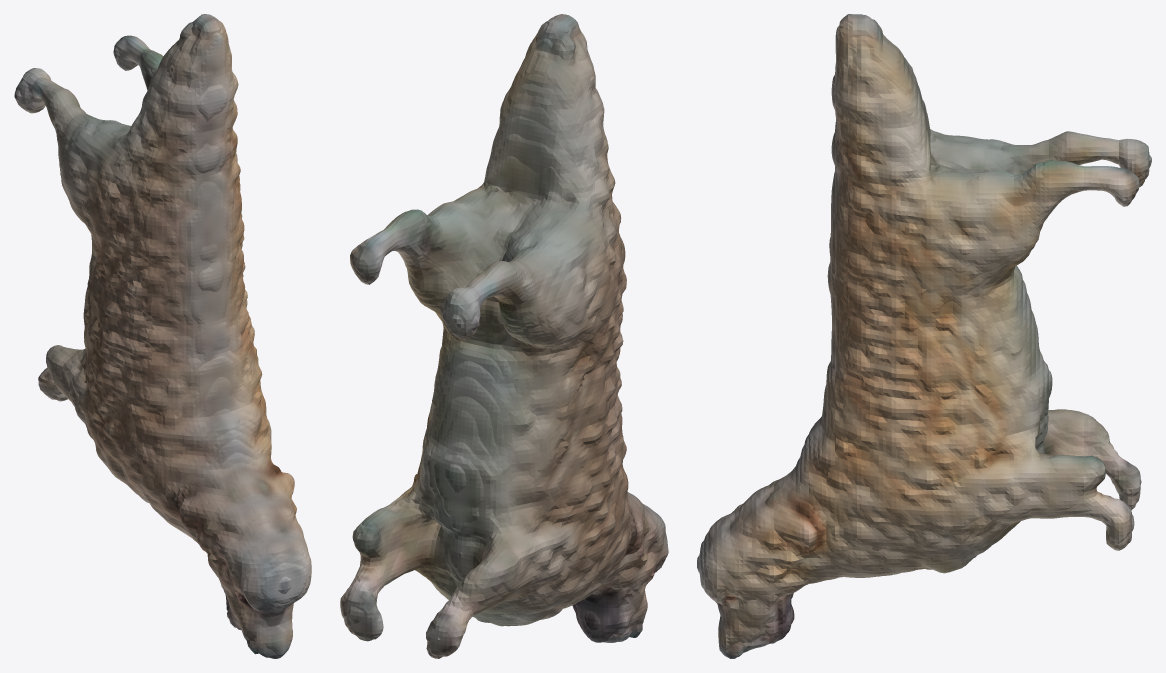
3 views of the same model, side by side, from view 1: azimuth 30°, elevation 25°; view 2: azimuth 150°, elevation 25°; view 3: azimuth 270°, elevation 25° (orthographic). The views are drawn at different scales.
Visible parts, largest first — view 1: world; view 2: world; view 3: world.
Boxes of the visible parts, left/top/right/bottom form: world: left=14, top=14, right=311, bottom=658; world: left=340, top=14, right=668, bottom=658; world: left=697, top=14, right=1151, bottom=658.
Bounding box in the file's own units: 0.3018 × 1.1 × 0.7107.
